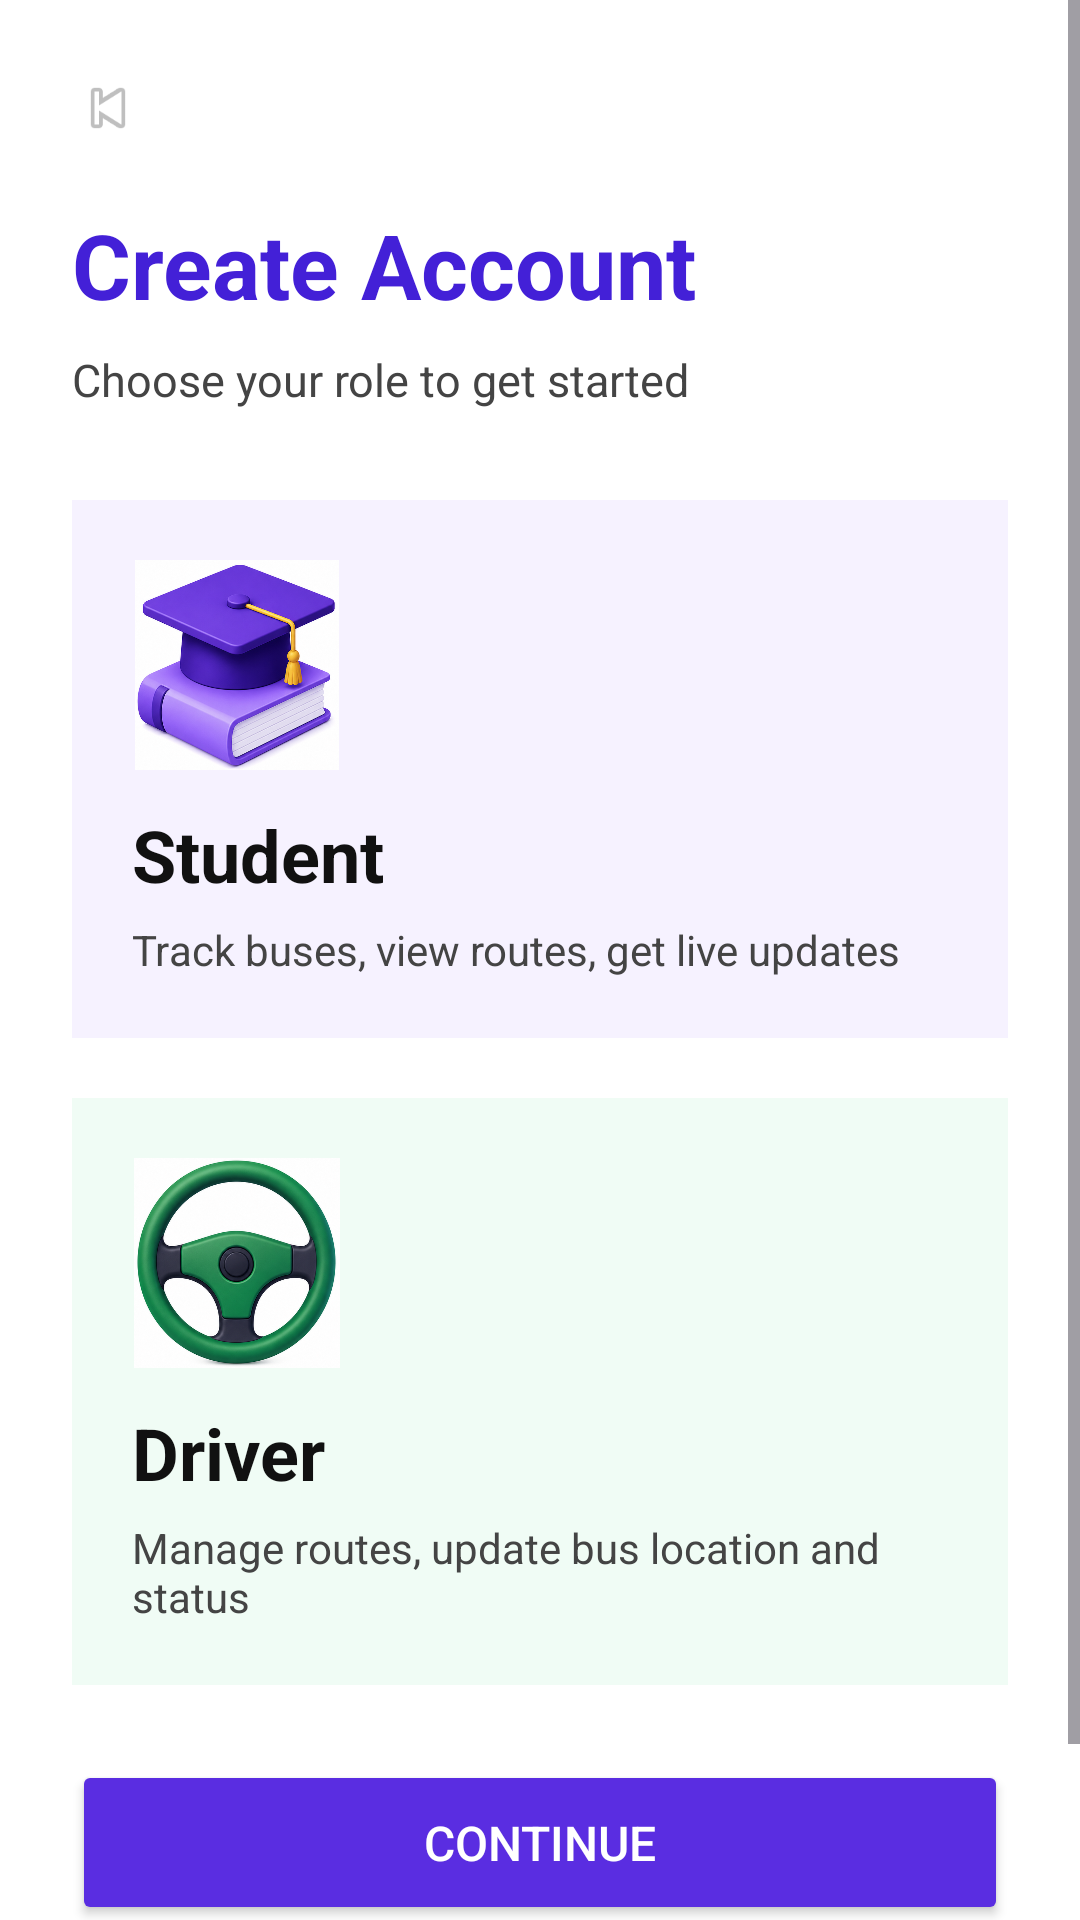

Icon bounding boxes for this 1080 x 1920 phone screenshot, format (x1, y1, x2, y2):
previous: (91, 88, 125, 128)
